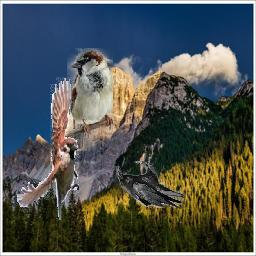Crow: (116, 162, 184, 209)
Sparrow: (15, 78, 79, 221), (67, 49, 113, 152)
